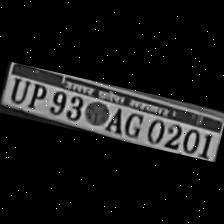0: (178, 125, 203, 156), (142, 114, 166, 146)
1: (196, 129, 218, 159)
2: (160, 119, 184, 150)
3: (63, 91, 86, 122)
9: (44, 85, 70, 116)
A: (104, 102, 127, 134)
G: (121, 106, 147, 140)
P: (24, 79, 48, 110)
U: (4, 74, 31, 104)
